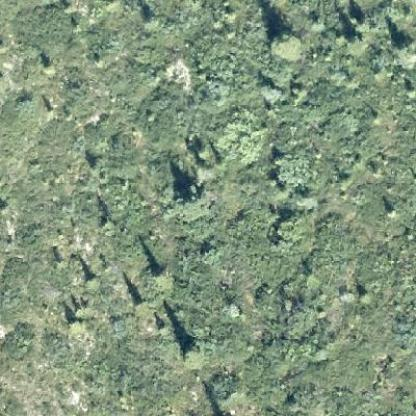tree-top: (268, 29, 300, 60), (176, 181, 204, 206), (179, 340, 203, 363), (150, 265, 172, 286), (346, 31, 364, 51), (65, 313, 81, 333), (82, 272, 100, 288)
